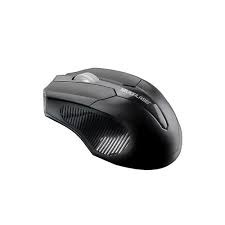mouse: (37, 55, 188, 178)
